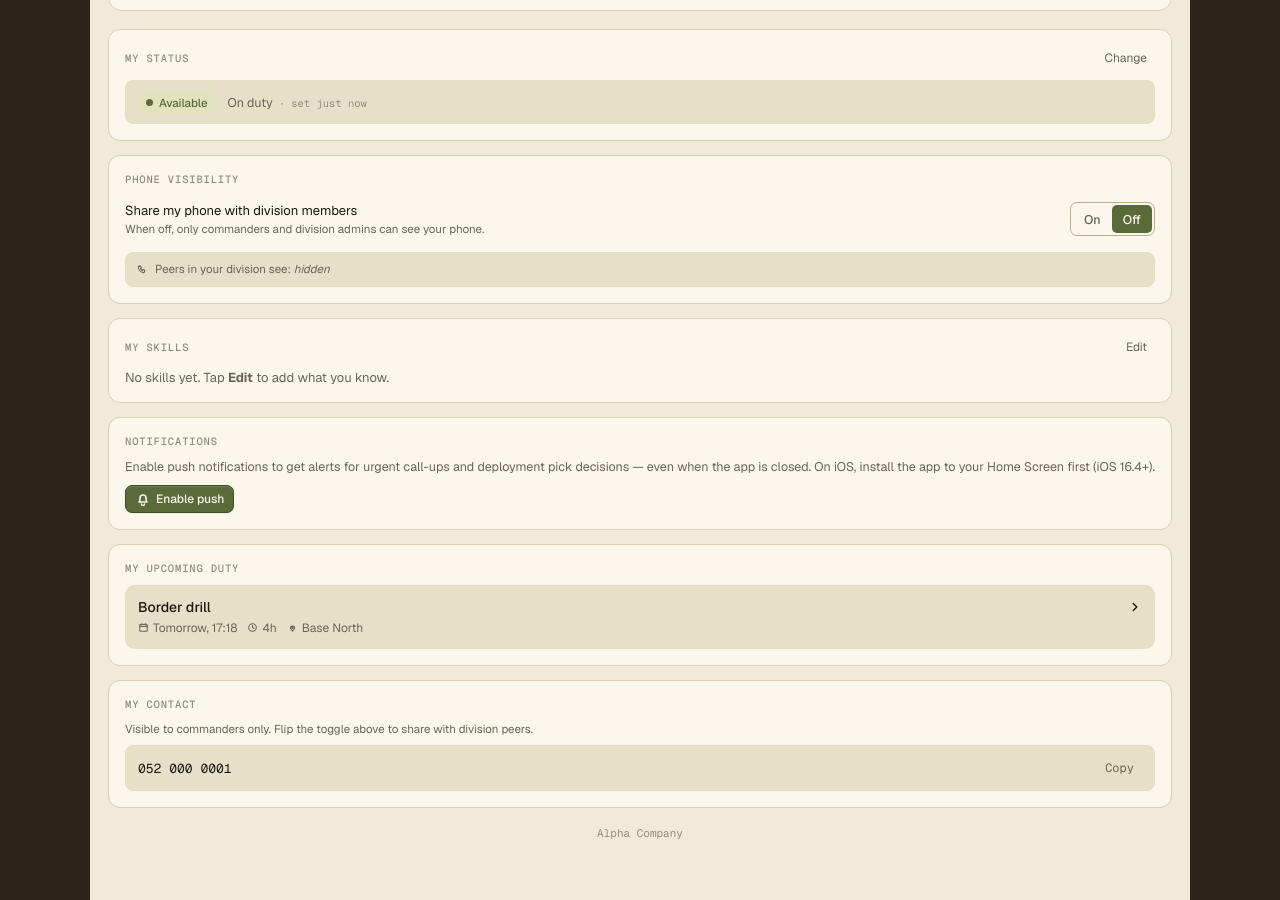
Test case: ReservistDashboard › SlotRow tap reveals notes
(page scrolled)
Expected: the text "Pickup at base" is not shown
Click the button "Border drill". click: (174, 607)
box: [125,585,1155,649]
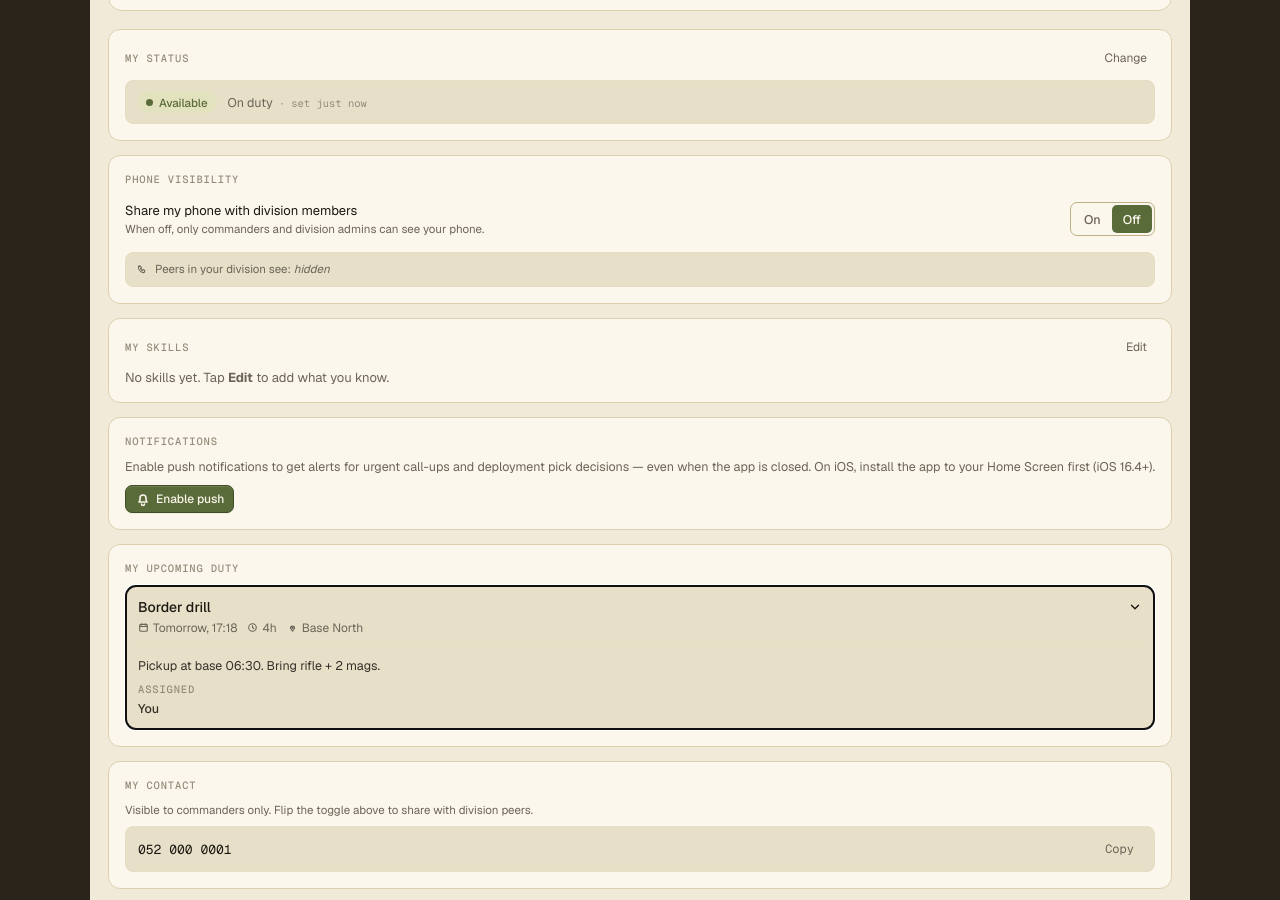
Expected: the button "Border drill" is expanded, [125,585,1155,730]
Expected: the text "Pickup at base 06:30. Bring rifle + 2 mags." is shown, [138,657,380,674]
